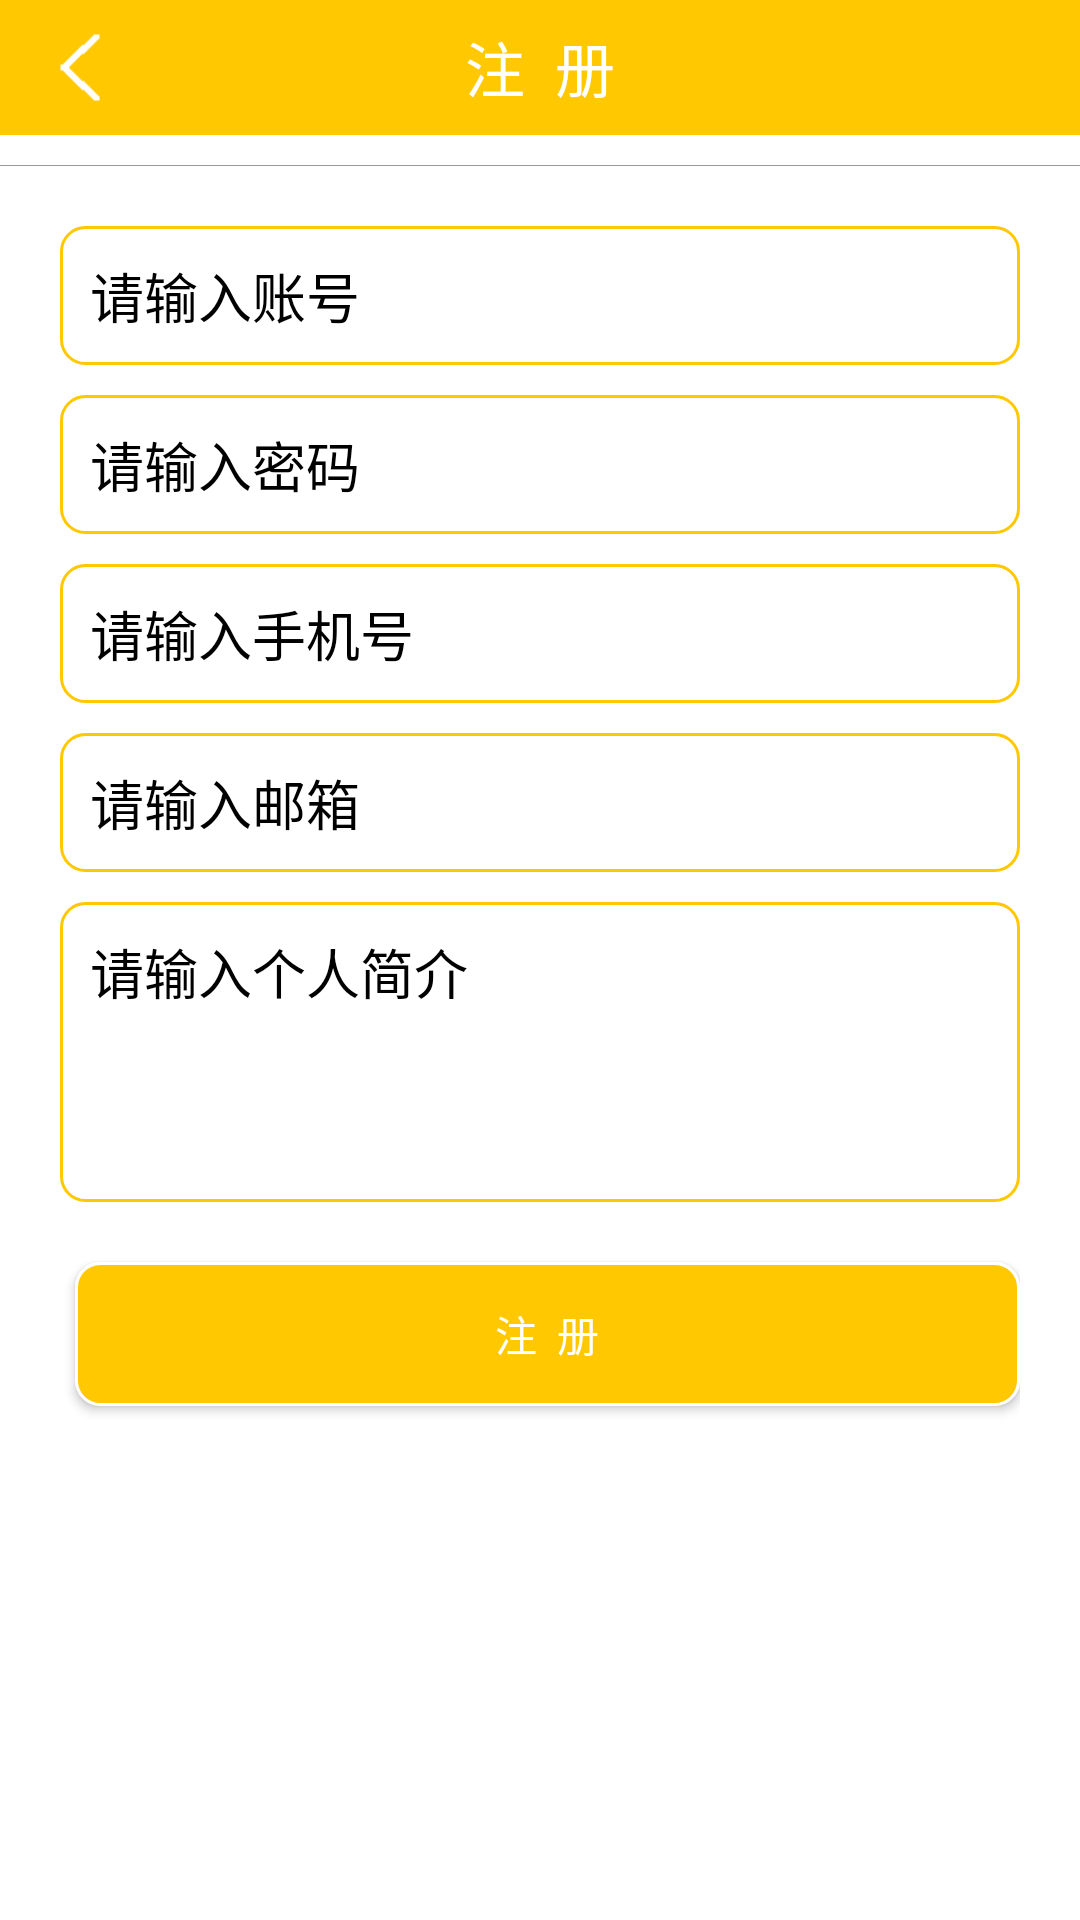

Point at icon controls on the screen. Image size 1080px×1920px, points as (x=x, y=y).
back: (x=80, y=67)
